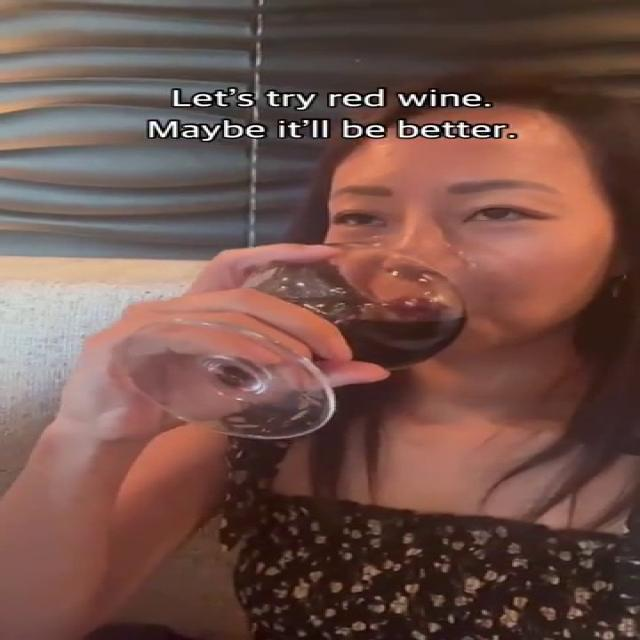Cup: (123, 234, 479, 439)
Hand: (81, 235, 409, 449)
Mouth: (375, 294, 477, 328)
